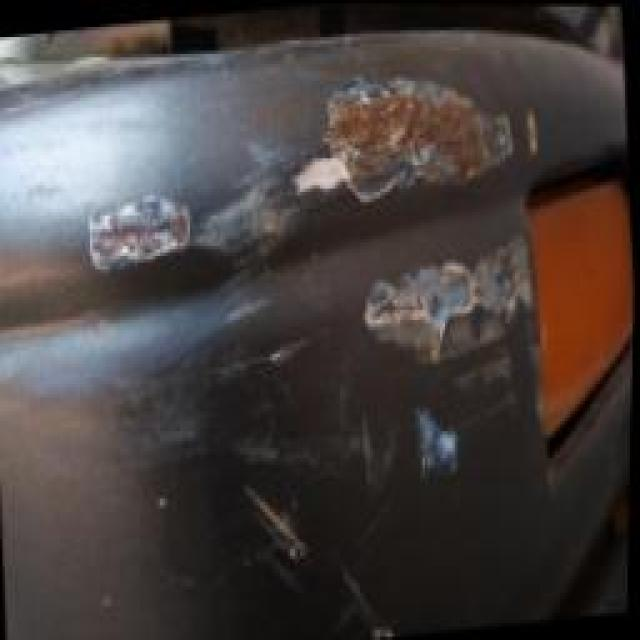Bumper: (20, 17, 588, 640)
